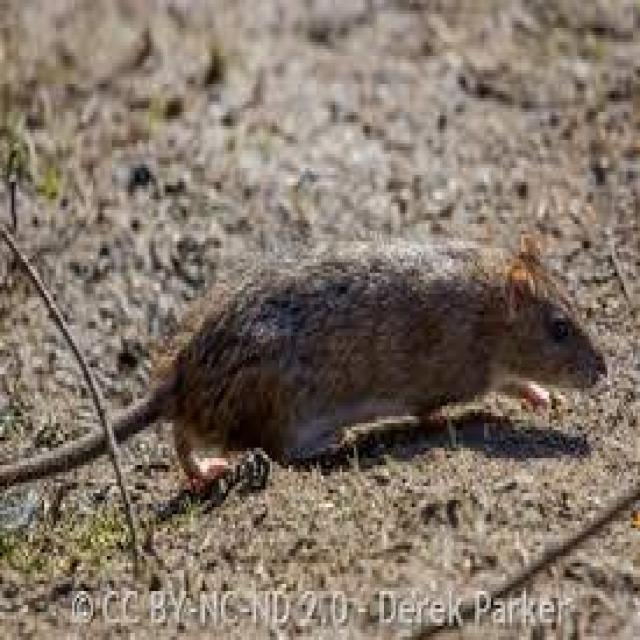Rat: (56, 158, 640, 494)
